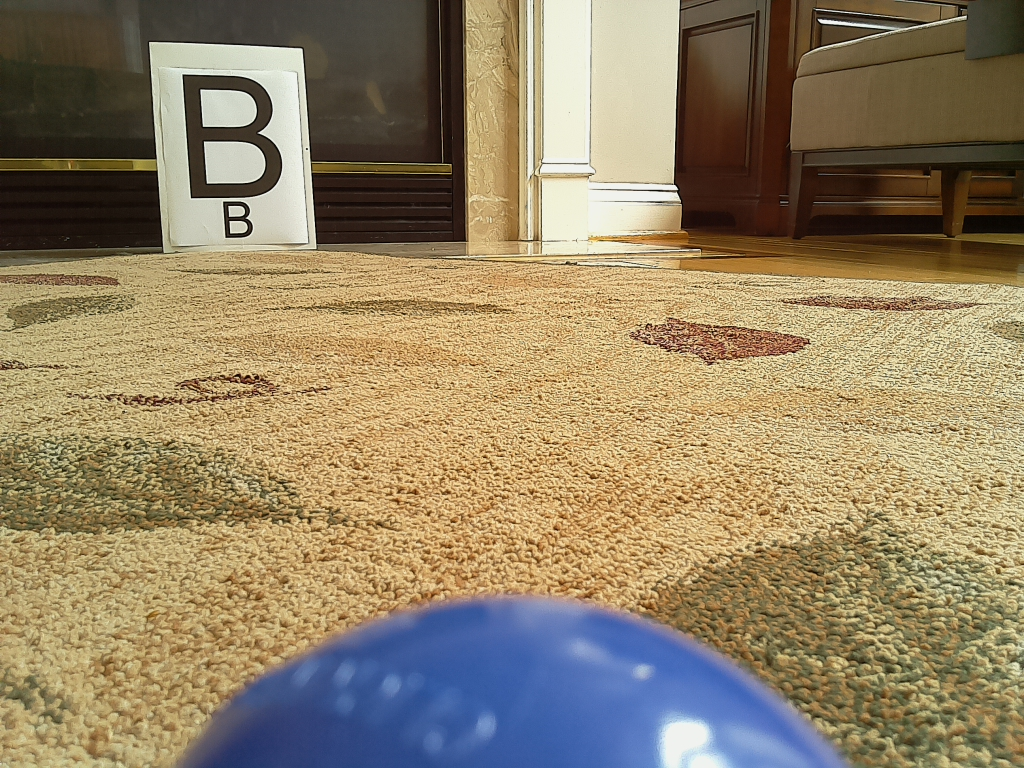letter: (181, 75, 285, 201)
